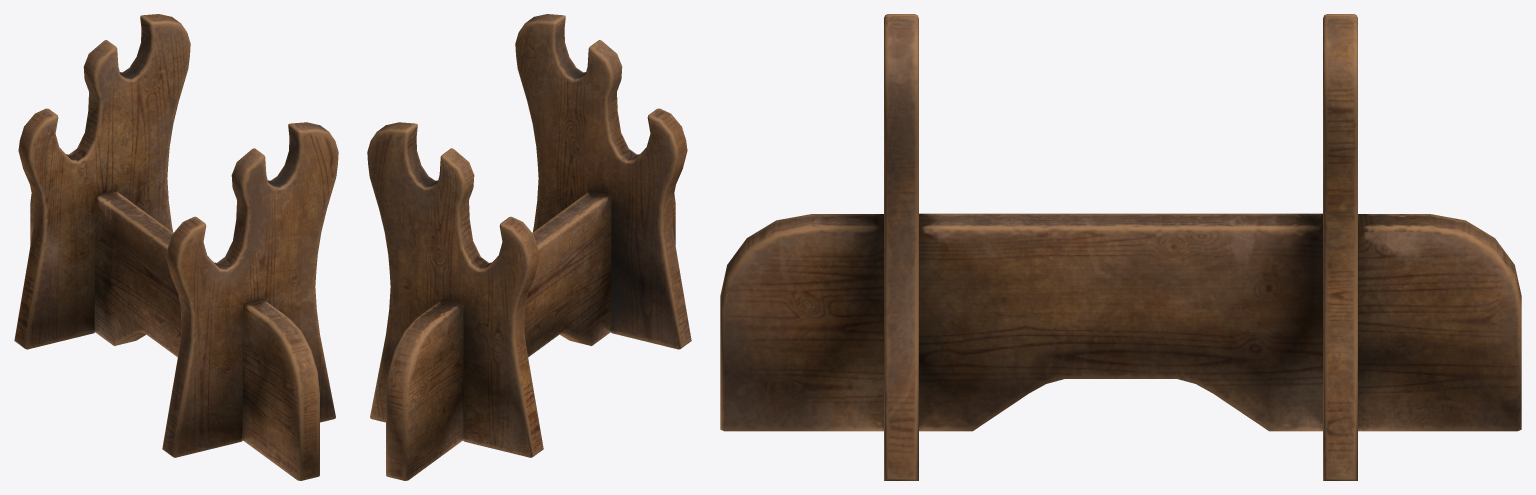
The model's file is woodstand.obj.
The picture shows the model from 3 angles, left to right: view 1: azimuth 30°, elevation 25°; view 2: azimuth 150°, elevation 25°; view 3: azimuth 270°, elevation 25°; orthographic projection. The views are drawn at different scales.
Parts seen in each view (by area): view 1: podstavLP.001; view 2: podstavLP.001; view 3: podstavLP.001.
Part boxes in pixels (x1,y1,x2,y2): podstavLP.001: [14, 14, 338, 480]; podstavLP.001: [367, 14, 691, 480]; podstavLP.001: [720, 14, 1521, 480].
Size of the model in its own units: 35.96 by 61.07 by 101.
